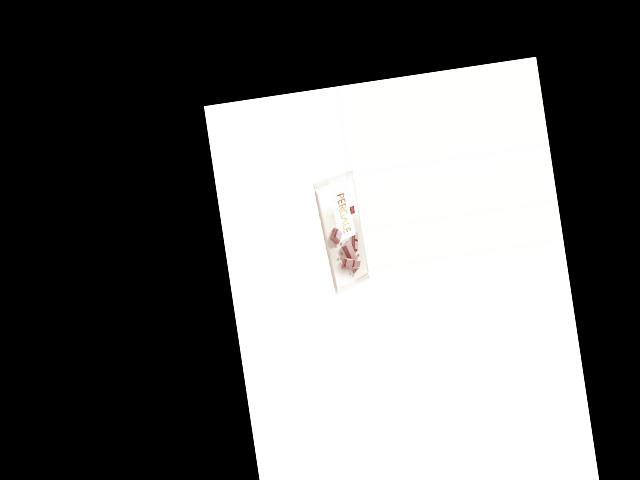chocolate: (312, 168, 371, 297)
